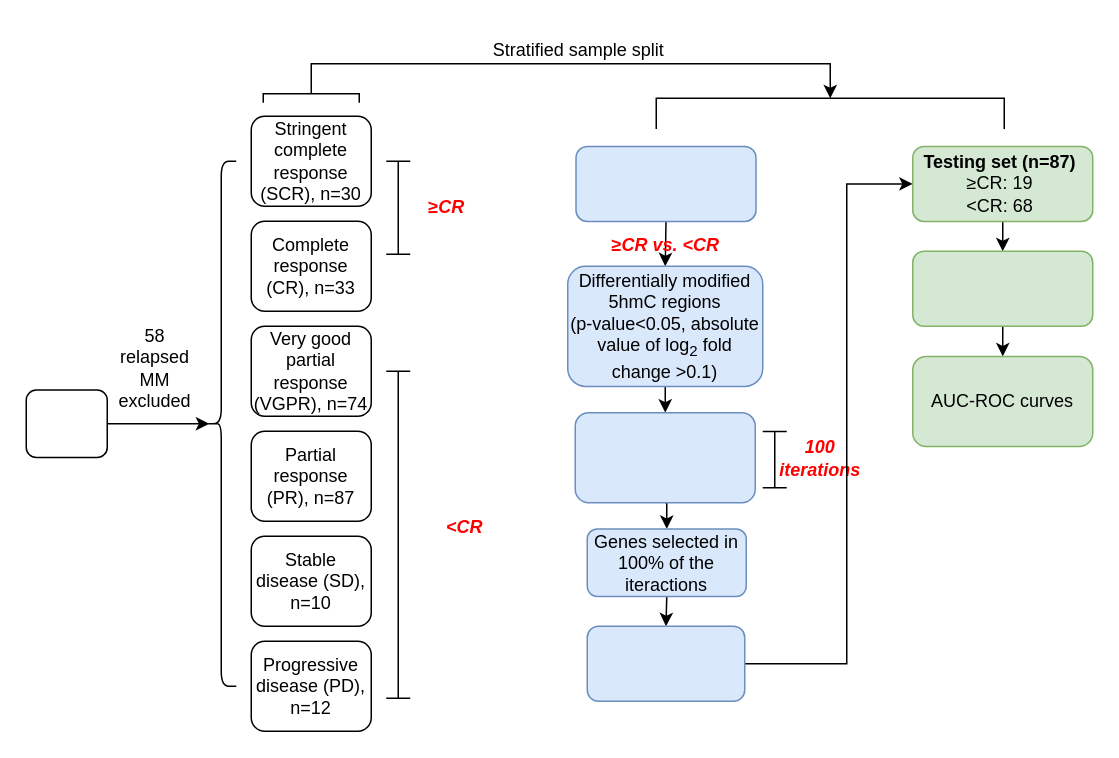
The diagram is 1119 pixels wide and 758 high, and some of its shapes have lost their labels. Each missing label, with the box of its shape:
320 MM patients: (25, 388, 107, 458)
Association with treatment response: (911, 250, 1093, 326)
Regularized logistic regression with 10-fold cross-validation: (574, 411, 755, 503)
Training set (n=159) ≥ CR: 44 <CR: 115: (574, 145, 756, 221)
Weighted predictive score (wp-score): (586, 625, 745, 701)
